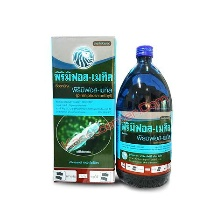book: (45, 31, 120, 186)
insecticide: (111, 40, 175, 191)
